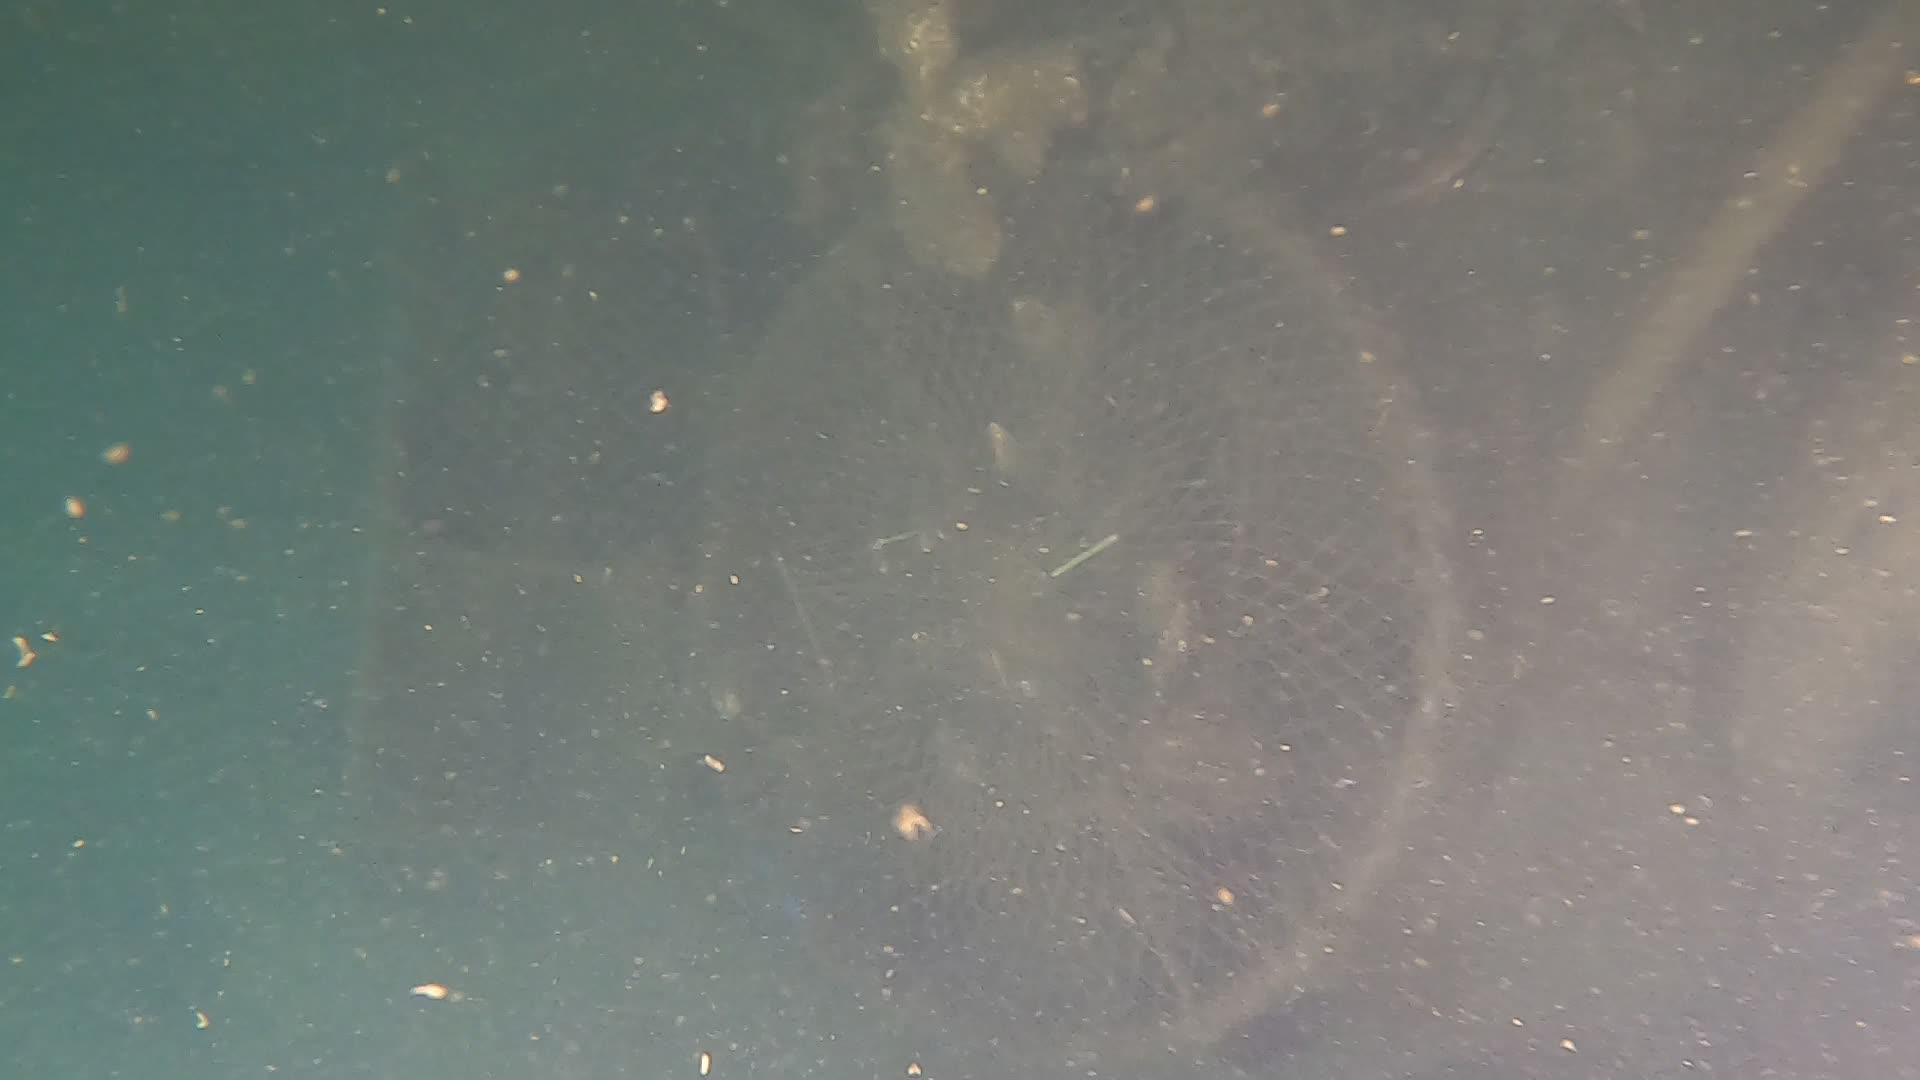circular fish trap: (733, 160, 1455, 1069), (336, 187, 735, 844)
